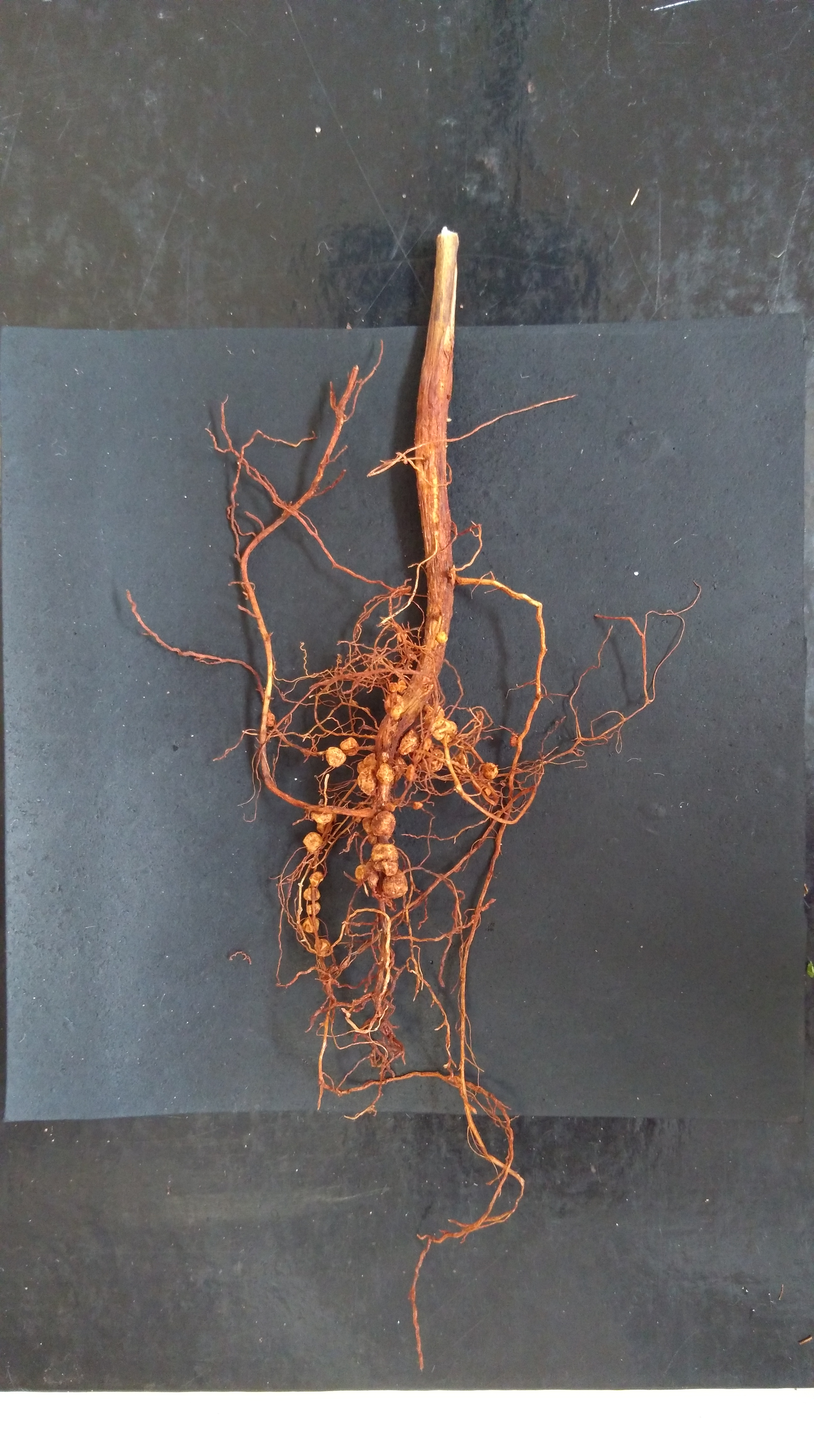nodule: (368, 842, 400, 877), (381, 868, 410, 900), (429, 716, 461, 745), (368, 809, 397, 839), (396, 728, 422, 759), (382, 691, 407, 721), (356, 766, 378, 798), (421, 701, 445, 729), (419, 748, 445, 773), (373, 761, 395, 789), (323, 745, 347, 769), (355, 750, 378, 774), (302, 830, 323, 855), (337, 736, 360, 757), (360, 814, 376, 844), (308, 810, 336, 826), (481, 759, 500, 782), (454, 751, 470, 775), (306, 870, 326, 888), (352, 862, 369, 883), (394, 756, 407, 782), (313, 820, 335, 835), (313, 938, 331, 956), (302, 916, 321, 933), (303, 886, 323, 902), (388, 678, 409, 693), (367, 870, 379, 893), (265, 709, 278, 730), (403, 764, 418, 782), (305, 901, 321, 916), (436, 630, 448, 643), (383, 800, 396, 811), (397, 630, 408, 642), (422, 738, 432, 751), (380, 751, 390, 763), (508, 735, 517, 748), (413, 801, 424, 810)
